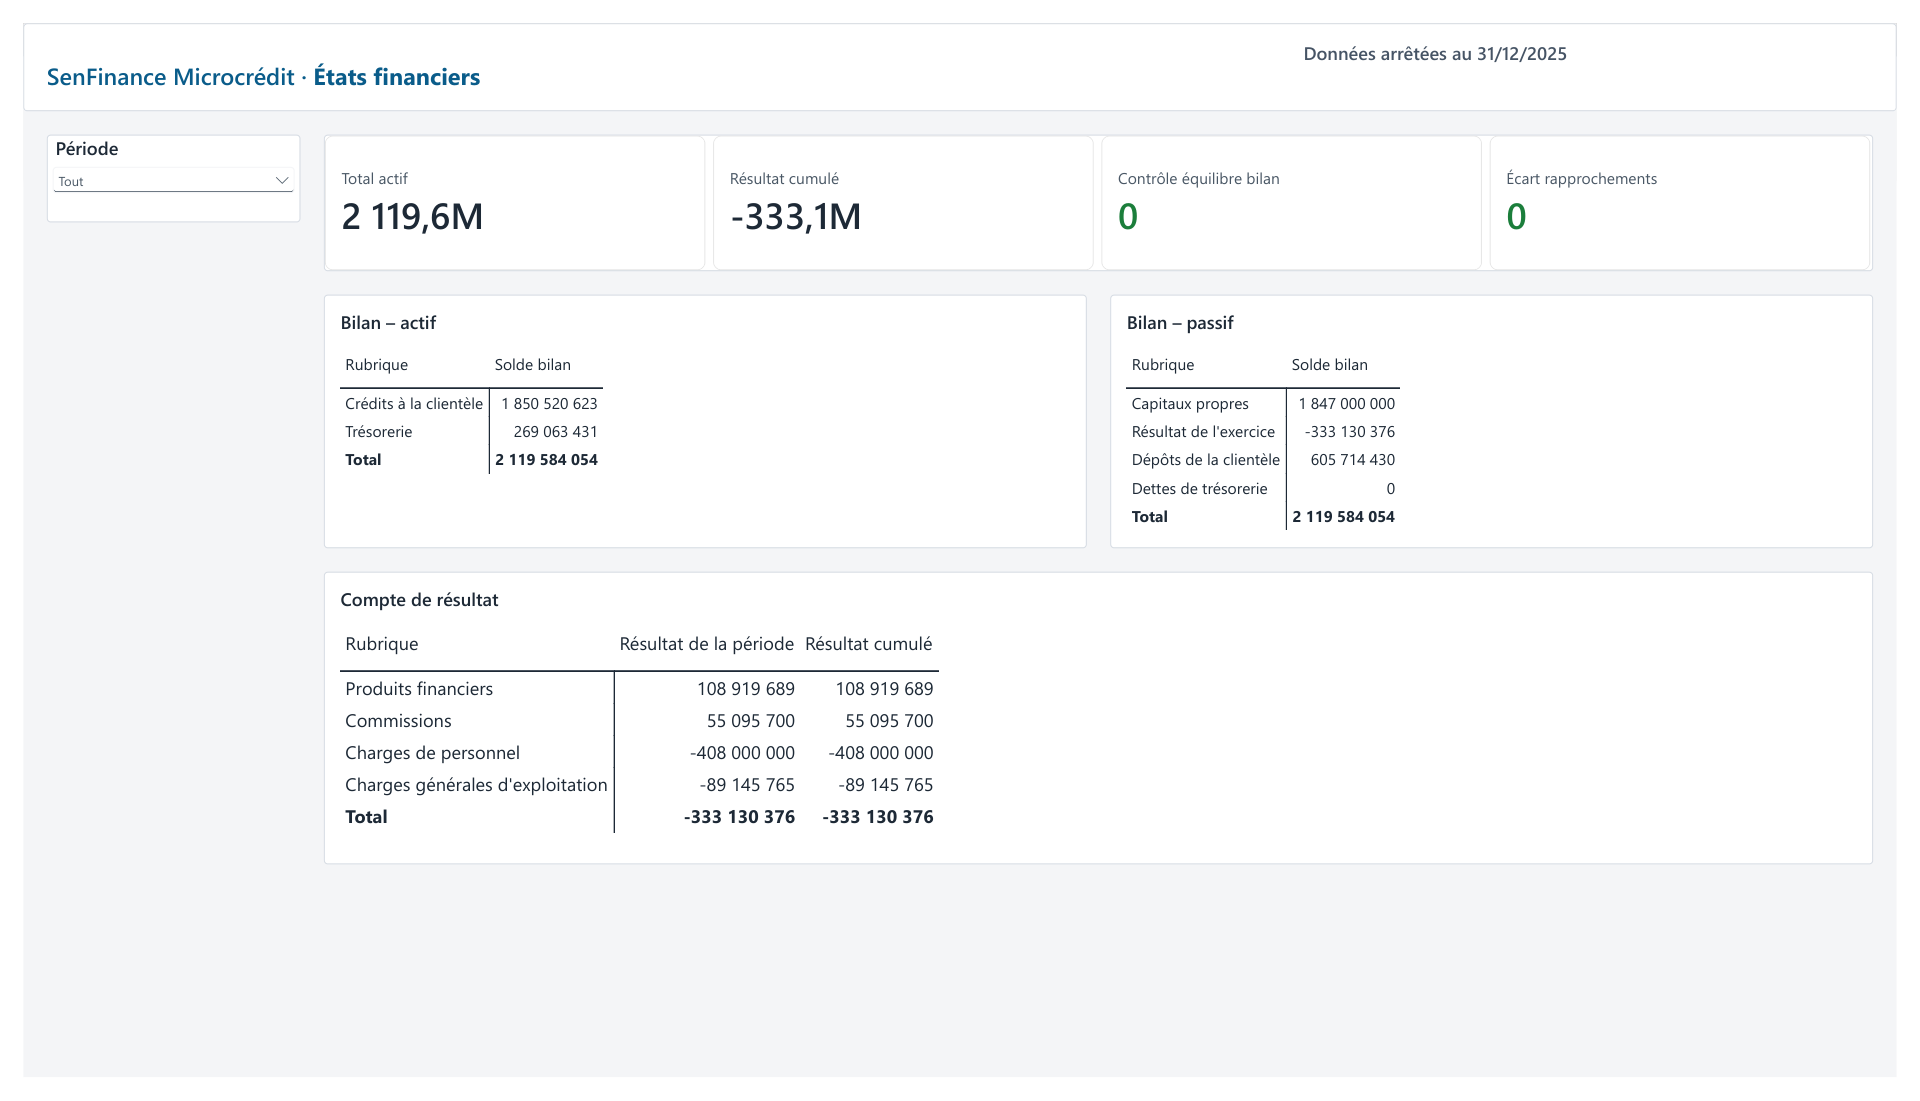

The page's visual inventory and layout, read from the dashboard file:
{"tool":"powerbi","page":{"name":"États financiers","canvas":[1920,1080],"ordinal":1},"visuals":[{"type":"shape","box":[0,0,1920,90],"z":0},{"type":"textbox","box":[24,20,1000,60],"z":1000},{"type":"cardVisual","fields":{"Data":["_Mesures.Bandeau arrêté"]},"box":[1296,10,600,40],"z":2000},{"type":"cardVisual","fields":{"Data":["_Mesures.Alerte fraîcheur"]},"box":[1296,50,600,34],"z":3000},{"type":"cardVisual","title":"États financiers","fields":{"Data":["_Mesures.Total actif","_Mesures.Résultat cumulé","_Mesures.Contrôle équilibre bilan","_Mesures.Écart rapprochements"]},"box":[308,114,1588,140],"z":4000},{"type":"pivotTable","title":"Bilan – actif","fields":{"Rows":["mart_bilan.libelle_rubrique"],"Values":["_Mesures.Solde bilan"]},"box":[308,278,782,260],"z":5000},{"type":"pivotTable","title":"Bilan – passif","fields":{"Rows":["mart_bilan.libelle_rubrique"],"Values":["_Mesures.Solde bilan"]},"box":[1114,278,782,260],"z":6000},{"type":"pivotTable","title":"Compte de résultat","fields":{"Rows":["mart_compte_resultat.libelle_rubrique"],"Values":["_Mesures.Résultat du mois","_Mesures.Résultat cumulé"]},"box":[308,562,1588,300],"z":7000},{"type":"slicer","fields":{"Values":["dim_date.annee_mois"]},"box":[24,114,260,90],"z":8000}]}

Visuals, with their boxes in screenshot pixels (x1, y1, x2, y2), scaled from the page's 1920x1080 canvas onto the 1920x1101 screenshot:
shape: x1=0 y1=0 x2=1919 y2=92
textbox: x1=24 y1=20 x2=1024 y2=82
cardVisual - _Mesures.Bandeau arrêté: x1=1296 y1=10 x2=1896 y2=51
cardVisual - _Mesures.Alerte fraîcheur: x1=1296 y1=51 x2=1896 y2=86
"États financiers" cardVisual: x1=308 y1=116 x2=1896 y2=259
"Bilan – actif" pivotTable: x1=308 y1=283 x2=1090 y2=548
"Bilan – passif" pivotTable: x1=1114 y1=283 x2=1896 y2=548
"Compte de résultat" pivotTable: x1=308 y1=573 x2=1896 y2=879
slicer - dim_date.annee_mois: x1=24 y1=116 x2=284 y2=208
